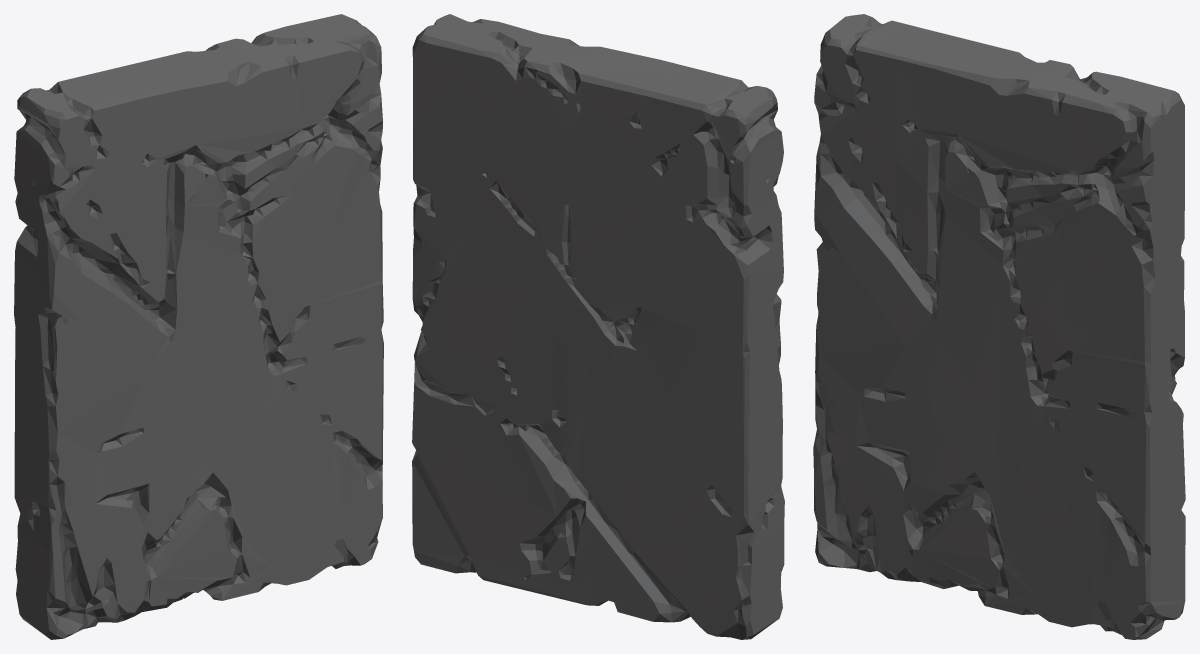
The model's file is SM_Concrete_Wall_Broken_Lvl_2.glb.
The picture shows the model from 3 angles, left to right: view 1: azimuth 30°, elevation 25°; view 2: azimuth 150°, elevation 25°; view 3: azimuth 330°, elevation 25°; orthographic projection.
Visible parts, largest first — view 1: SM_Concrete_Wall_Broken_Lvl_2; view 2: SM_Concrete_Wall_Broken_Lvl_2; view 3: SM_Concrete_Wall_Broken_Lvl_2.
Part boxes in pixels (<box>): SM_Concrete_Wall_Broken_Lvl_2: <box>14,14,383,639</box>; SM_Concrete_Wall_Broken_Lvl_2: <box>412,14,784,639</box>; SM_Concrete_Wall_Broken_Lvl_2: <box>813,14,1185,639</box>.
Size of the model in its own units: 2 by 3 by 0.4092.
1 material, 1 textured.
